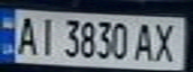0: (112, 19, 133, 61)
3: (57, 16, 81, 58), (93, 18, 115, 60)
8: (78, 17, 96, 60)
A: (12, 12, 39, 56), (133, 19, 157, 63)
I: (33, 15, 60, 56)
X: (151, 19, 184, 64)
